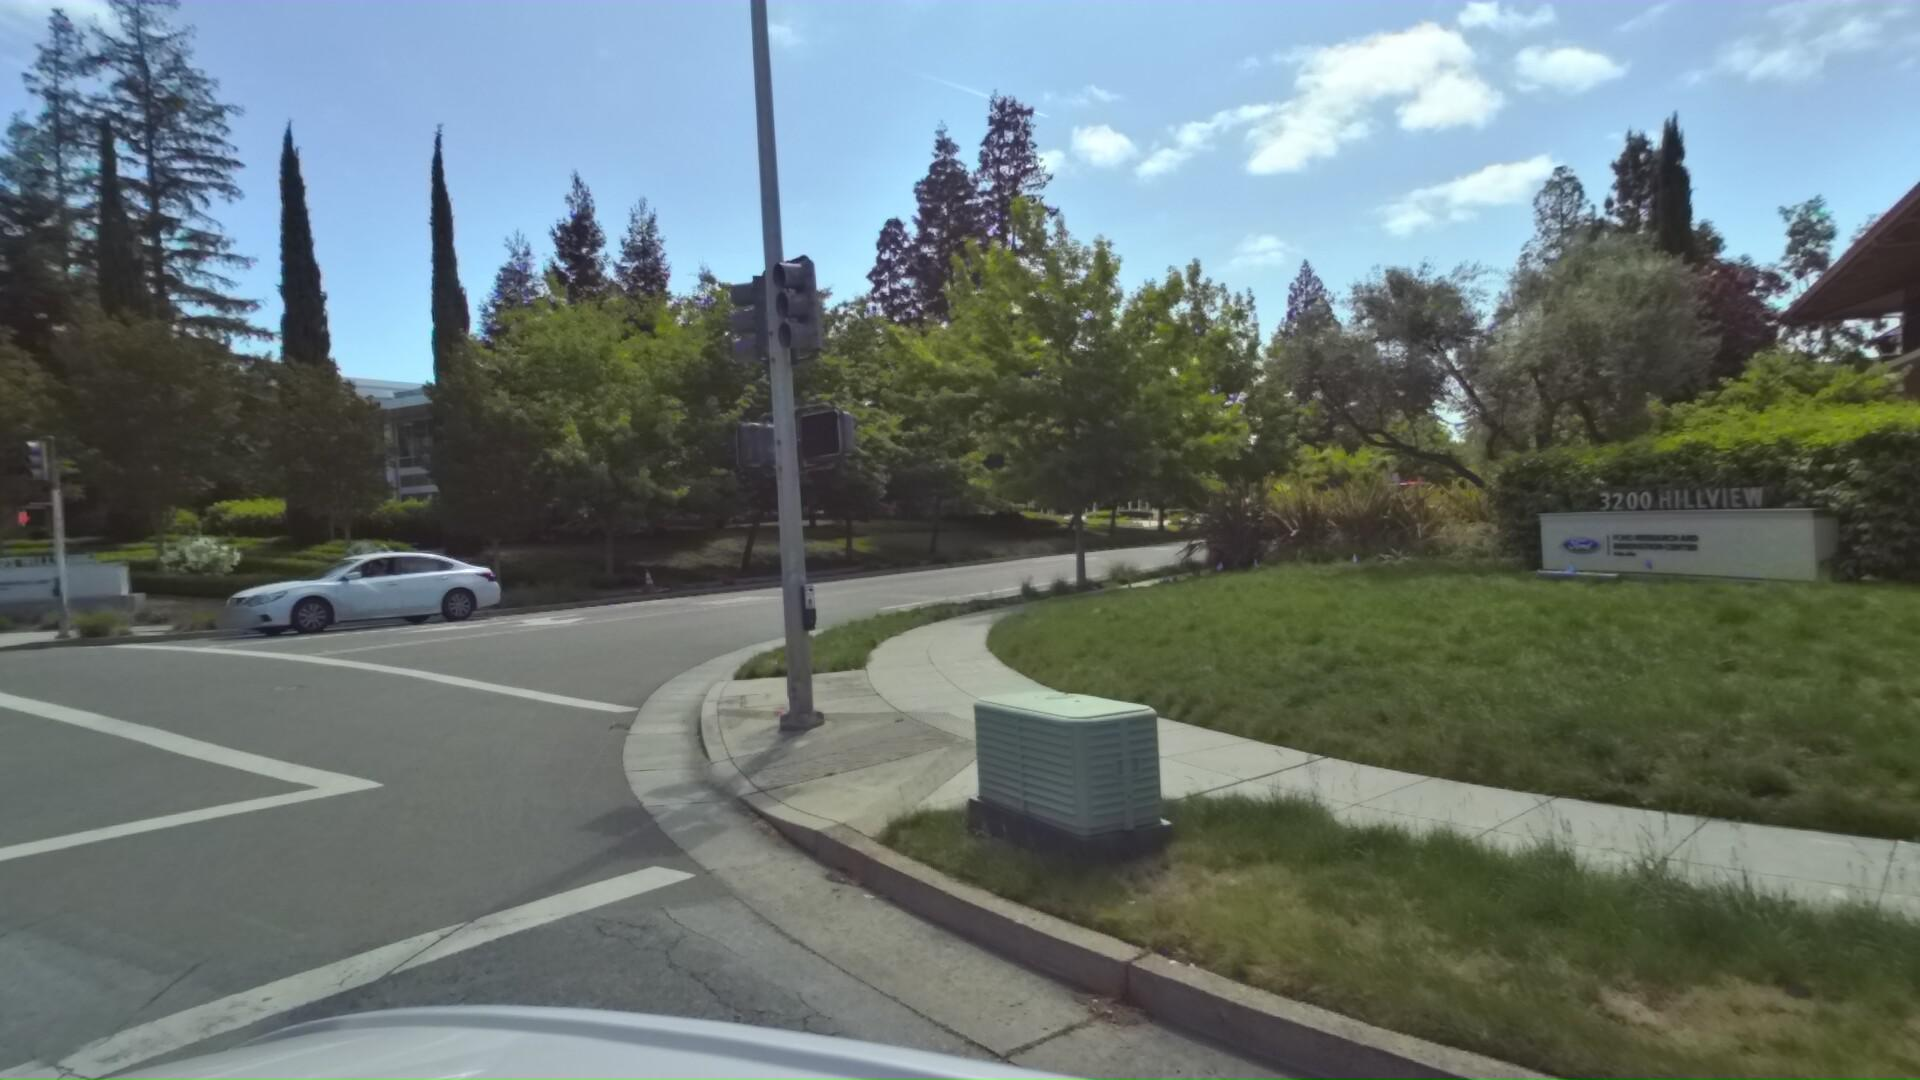car: (203, 530, 506, 637)
